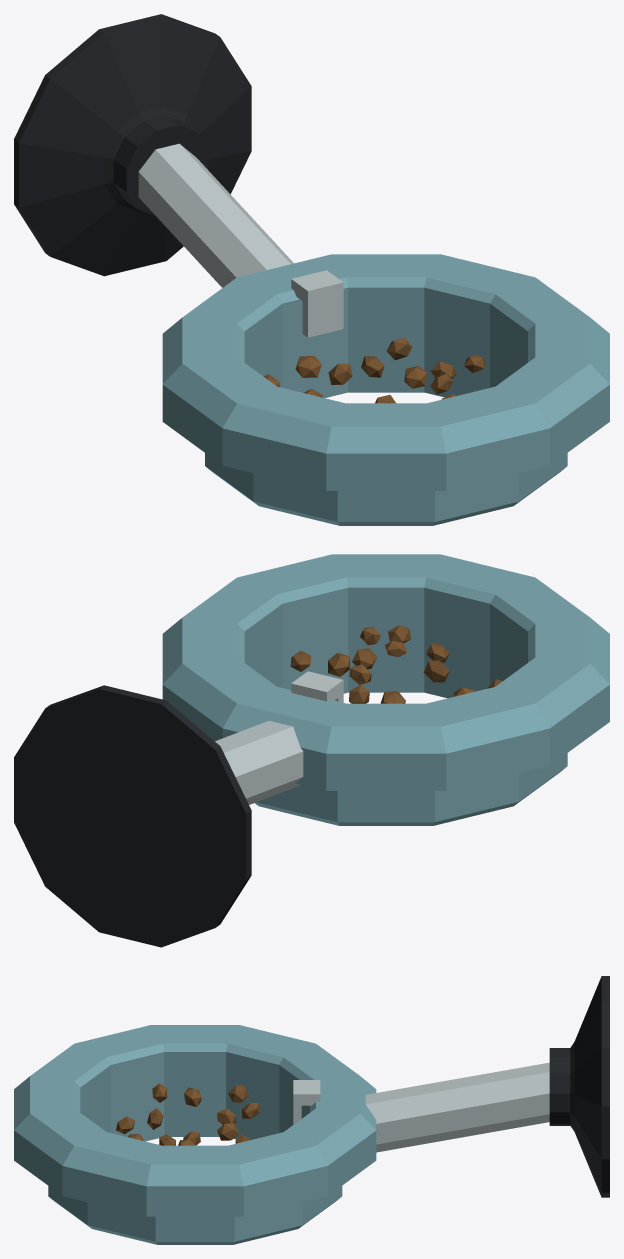
The model's file is floating-feeding-ring-1994fd.glb.
The picture shows the model from 3 angles, top to bottom: view 1: azimuth 30°, elevation 25°; view 2: azimuth 150°, elevation 25°; view 3: azimuth 270°, elevation 25°; orthographic projection. The views are drawn at different scales.
Parts seen in each view (by area): view 1: ring-body, pellets; view 2: ring-body, pellets; view 3: ring-body, pellets.
Boxes of the visible parts, left/top/right/bottom form: ring-body: left=14, top=14, right=609, bottom=525; pellets: left=263, top=337, right=485, bottom=403; ring-body: left=14, top=554, right=609, bottom=947; pellets: left=290, top=625, right=502, bottom=703; ring-body: left=14, top=976, right=609, bottom=1244; pellets: left=116, top=1083, right=259, bottom=1145.
Bounding box in the file's own units: 0.0869 × 0.0522 × 0.143.
